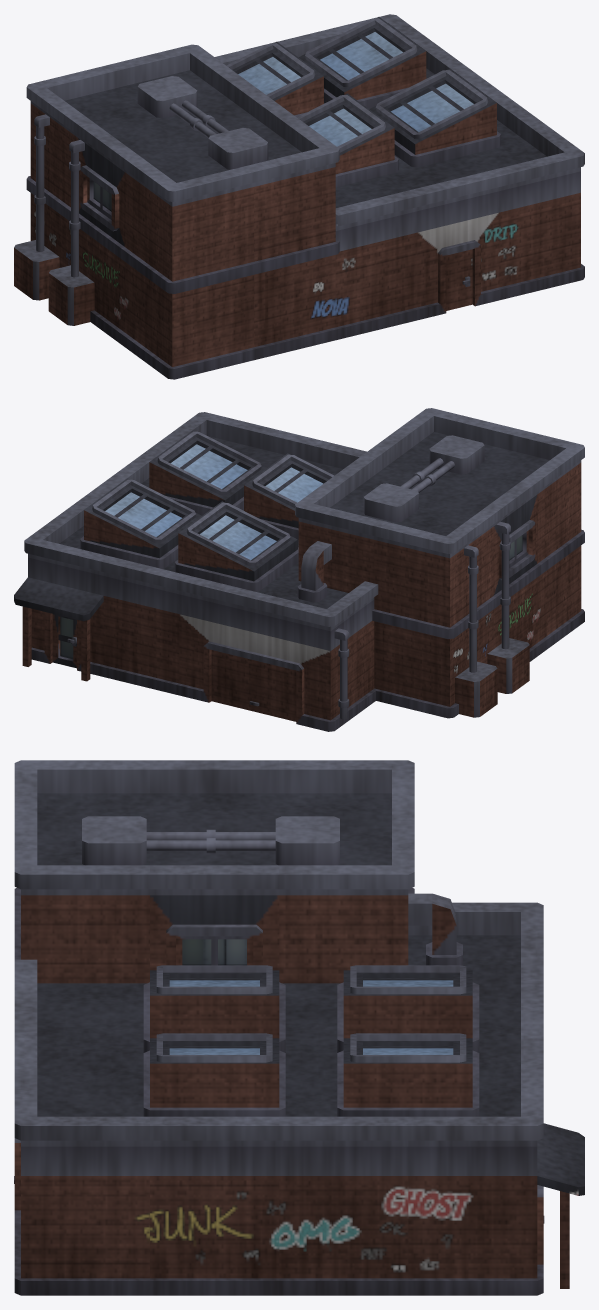
File: building-q-brown-scuffed.glb
The picture shows the model from 3 angles, top to bottom: view 1: azimuth 30°, elevation 25°; view 2: azimuth 150°, elevation 25°; view 3: azimuth 270°, elevation 25°; orthographic projection. The views are drawn at different scales.
Parts seen in each view (by area): view 1: building-q; view 2: building-q; view 3: building-q.
Boxes of the visible parts, left/top/right/bottom form: building-q: left=14, top=14, right=584, bottom=379; building-q: left=14, top=408, right=584, bottom=731; building-q: left=14, top=760, right=584, bottom=1295.
Bounding box in the file's own units: 2.14 × 0.88 × 1.77.
1 material, 1 textured.
